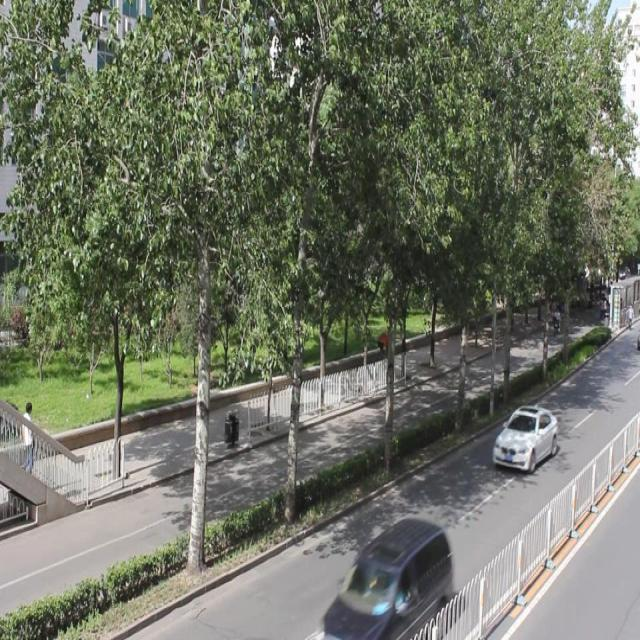car: (318, 518, 452, 640), (491, 402, 557, 468)
